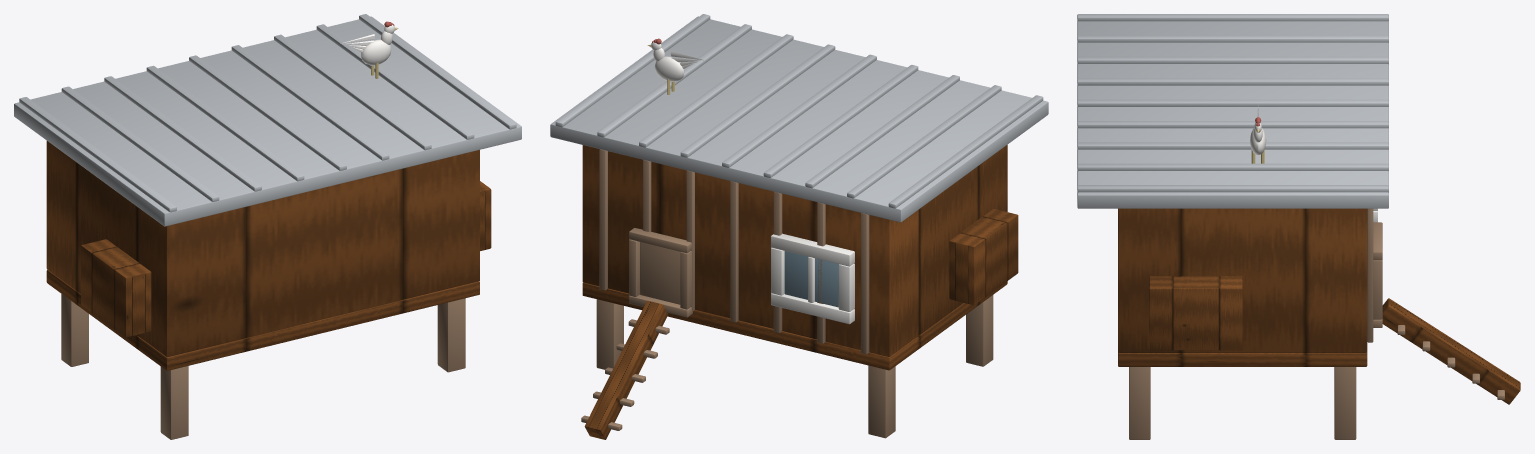
The model's file is th38_huehnerstall.glb.
3 views of the same model, side by side, from view 1: azimuth 30°, elevation 25°; view 2: azimuth 150°, elevation 25°; view 3: azimuth 270°, elevation 25° (orthographic). The views are drawn at different scales.
Parts seen in each view (by area): view 1: Cube.005, Cube.013, Cube.004, Cube.040, Cube, Cube.002, Cube.017, Cube.019, Cube.015, Cube.018, Cube.020, Cube.014 (+6 smaller); view 2: Cube.013, Cube.005, Cube.040, Cube.004, Cube.028, Cube.023, Cube.034, Cube.001, Cube.003, Cube.014, Cube.019, Cube (+23 smaller); view 3: Cube.013, Cube.005, Cube.041, Cube.028, Cube.004, Cube.014, Cube.015, Cube.017, Cube.018, Cube.022, Cube.016, Cube.021 (+6 smaller).
Part boxes in pixels (x1=…): Cube.005: x1=46, y1=141, x2=479, y2=357; Cube.013: x1=14, y1=16, x2=521, y2=226; Cube.004: x1=46, y1=270, x2=479, y2=370; Cube.040: x1=81, y1=239, x2=151, y2=337; Cube: x1=160, y1=366, x2=188, y2=439; Cube.002: x1=437, y1=298, x2=465, y2=372; Cube.017: x1=146, y1=65, x2=304, y2=181; Cube.019: x1=231, y1=45, x2=389, y2=160; Cube.015: x1=61, y1=86, x2=219, y2=201; Cube.018: x1=189, y1=55, x2=346, y2=170; Cube.020: x1=274, y1=34, x2=431, y2=150; Cube.014: x1=19, y1=97, x2=176, y2=212; Cube.013: x1=550, y1=16, x2=1048, y2=222; Cube.005: x1=582, y1=145, x2=1007, y2=356; Cube.040: x1=949, y1=209, x2=1018, y2=305; Cube.004: x1=582, y1=281, x2=1007, y2=370; Cube.028: x1=584, y1=300, x2=668, y2=439; Cube.023: x1=640, y1=242, x2=680, y2=304; Cube.034: x1=784, y1=251, x2=838, y2=307; Cube.001: x1=868, y1=365, x2=895, y2=438; Cube.003: x1=596, y1=299, x2=623, y2=369; Cube.014: x1=888, y1=95, x2=1043, y2=208; Cube.019: x1=680, y1=44, x2=835, y2=157; Cube: x1=966, y1=295, x2=993, y2=366; Cube.013: x1=1077, y1=21, x2=1388, y2=208; Cube.005: x1=1118, y1=208, x2=1367, y2=352; Cube.041: x1=1149, y1=276, x2=1242, y2=350; Cube.028: x1=1382, y1=298, x2=1520, y2=404; Cube.004: x1=1118, y1=352, x2=1367, y2=366; Cube.014: x1=1077, y1=14, x2=1388, y2=21; Cube.015: x1=1077, y1=35, x2=1388, y2=42; Cube.017: x1=1077, y1=78, x2=1388, y2=85; Cube.018: x1=1077, y1=99, x2=1388, y2=106; Cube.022: x1=1077, y1=185, x2=1388, y2=192; Cube.016: x1=1077, y1=56, x2=1388, y2=64; Cube.021: x1=1077, y1=163, x2=1388, y2=170.
Size of the model in its own units: 2.8 by 2.23 by 2.84.
7 materials, 1 textured.
